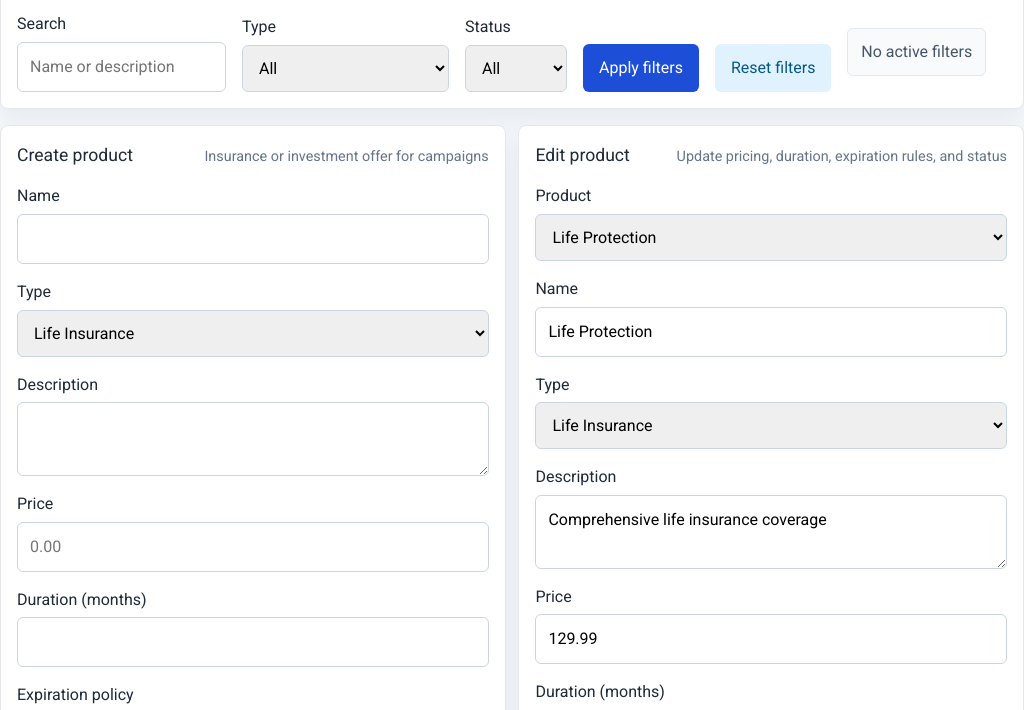
Test: ProductsPage › shows an empty catalog state when filters return no products
The width and height of the screenshot is (1024, 710).
Type "No Match" into the field named "Search products" at (122, 67), box [17,42,226,92]
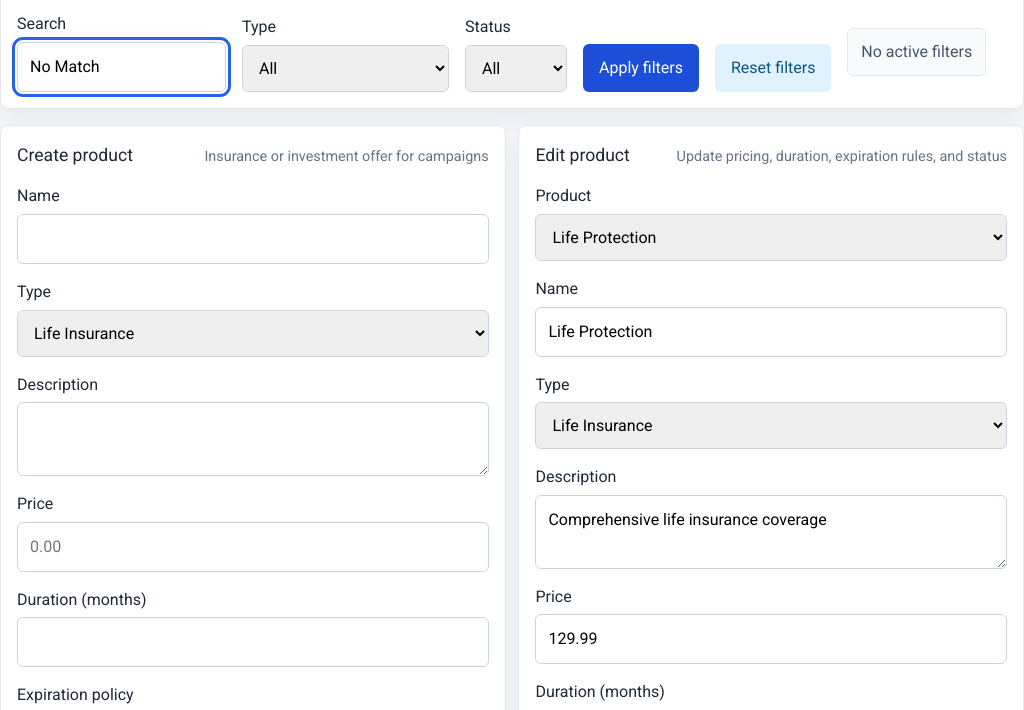
Click the button "Apply filters" at (641, 68), box [583,44,699,92]
(page scrolled)
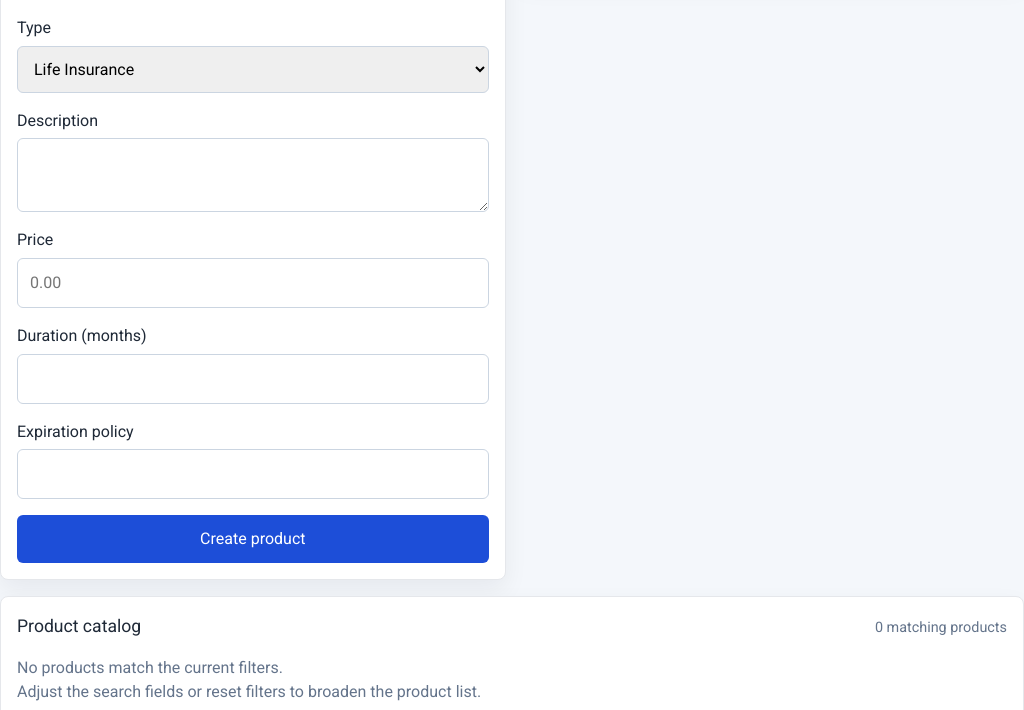
Result: the text "No products match the current filters." is shown at [17,658,283,676]
Result: the text "Adjust the search fields or reset filters to broaden the product list." is shown at [17,682,481,700]
Result: the text "0 matching products" is shown at [875,617,1007,639]
